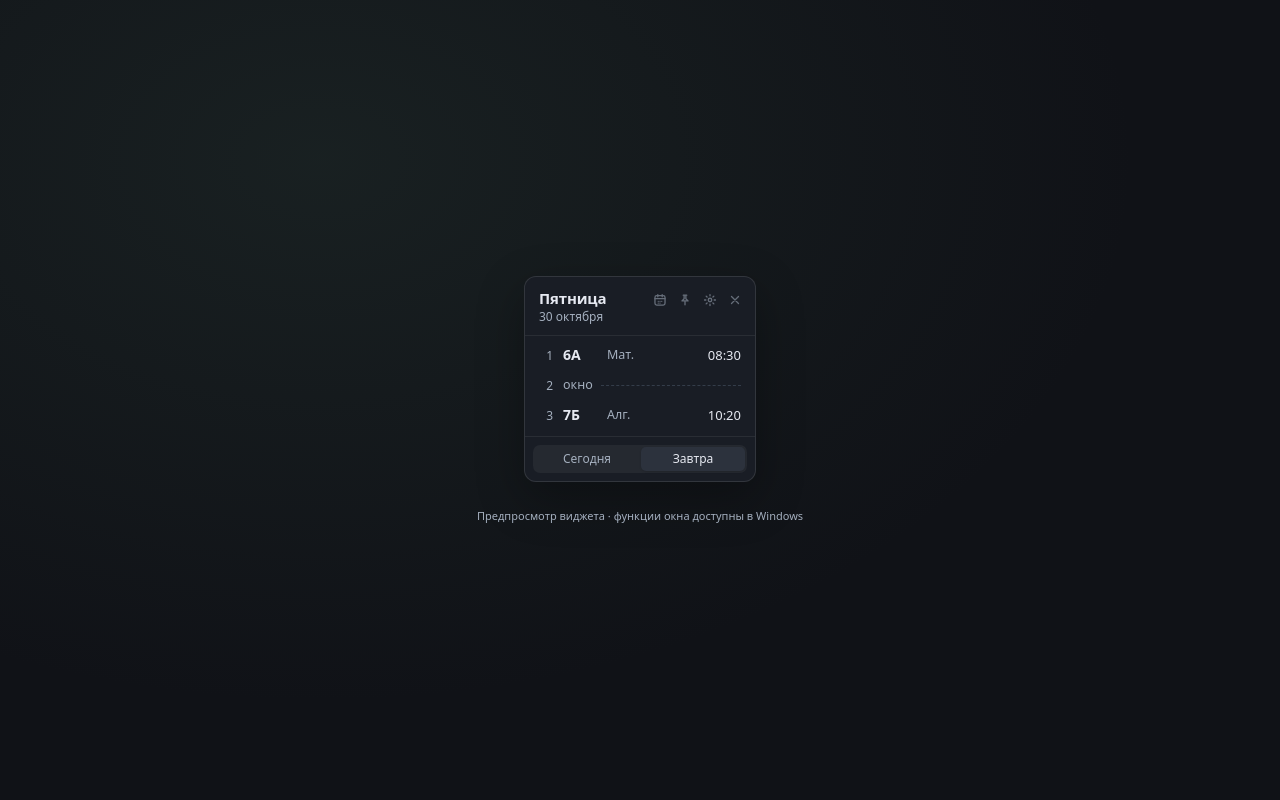
без новой версии сообщает, что установлена последняя
The image size is (1280, 800).
Click the button named "Открыть настройки".
click(710, 300)  # box [698,288,722,312]
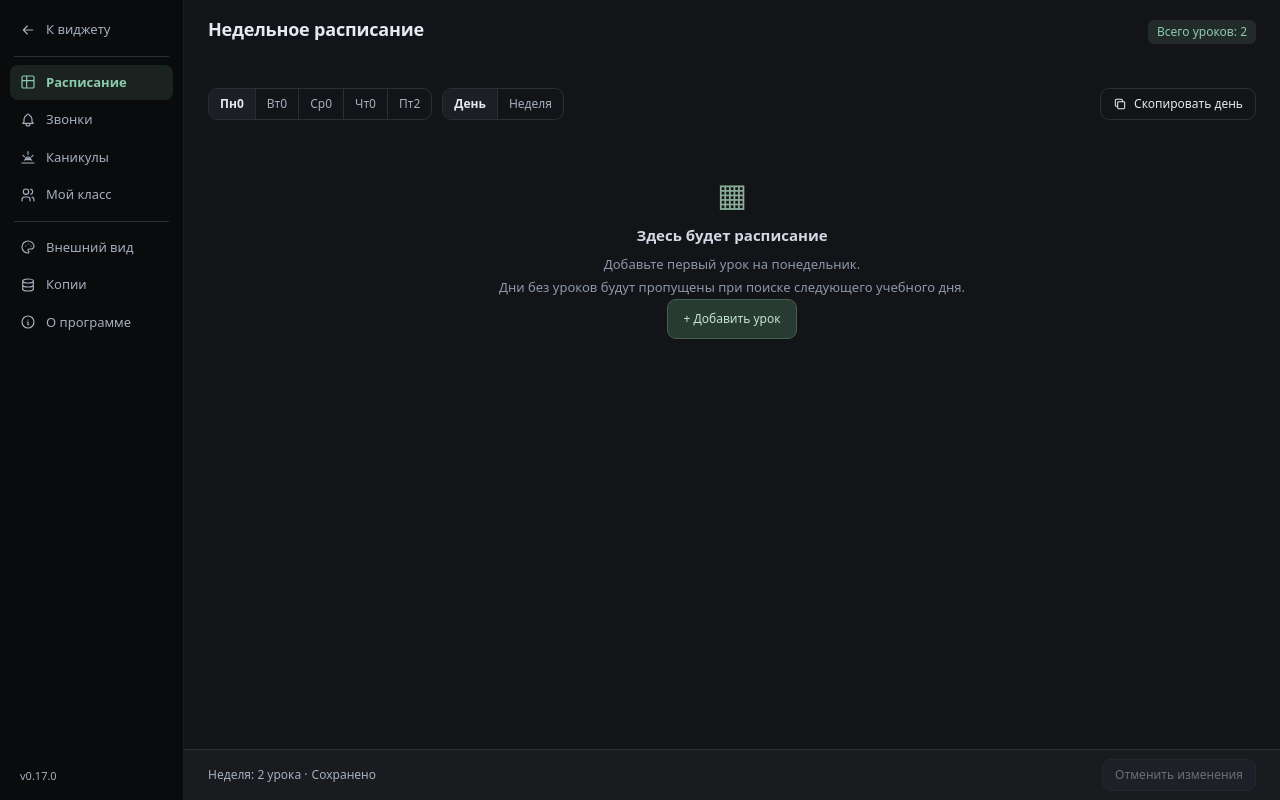
Click the button "О программе".
click(92, 322)  # box [10,304,173,340]
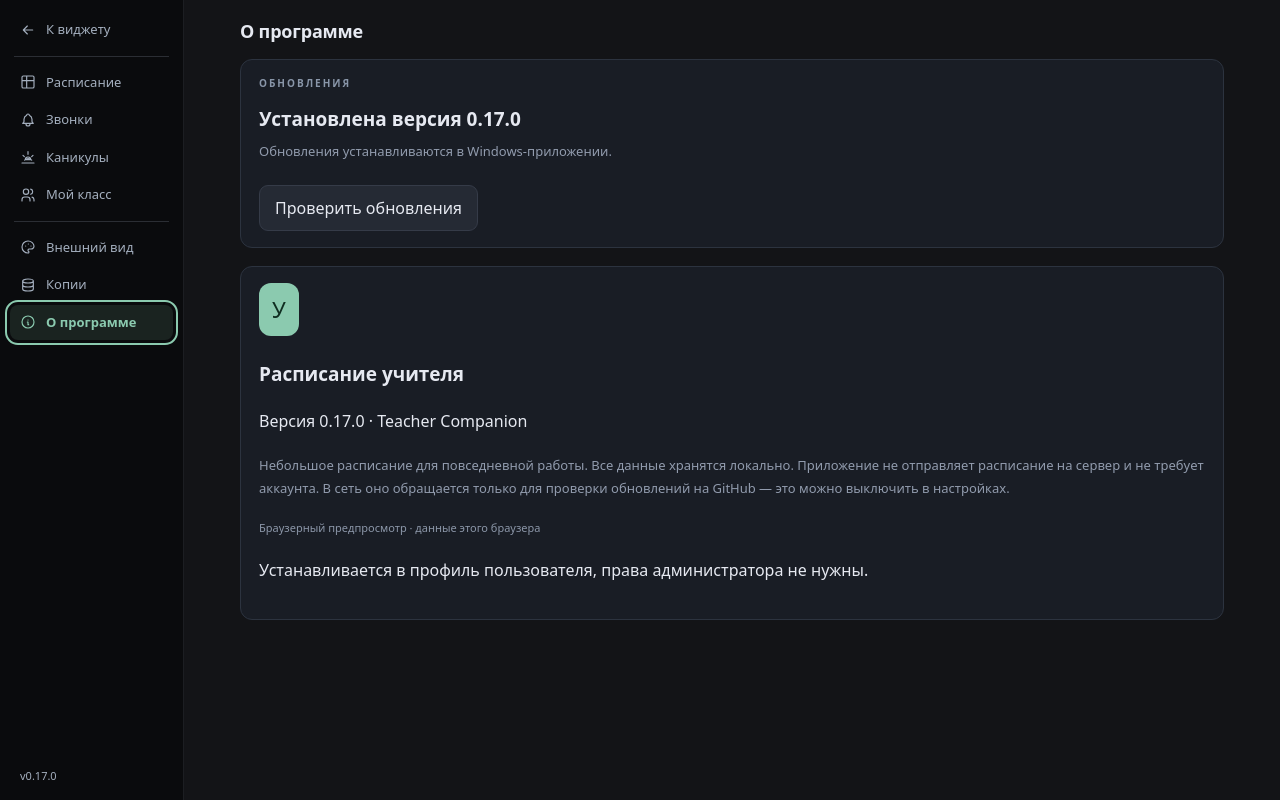
Click the button "Проверить обновления".
click(368, 208)  # box [259,185,478,231]
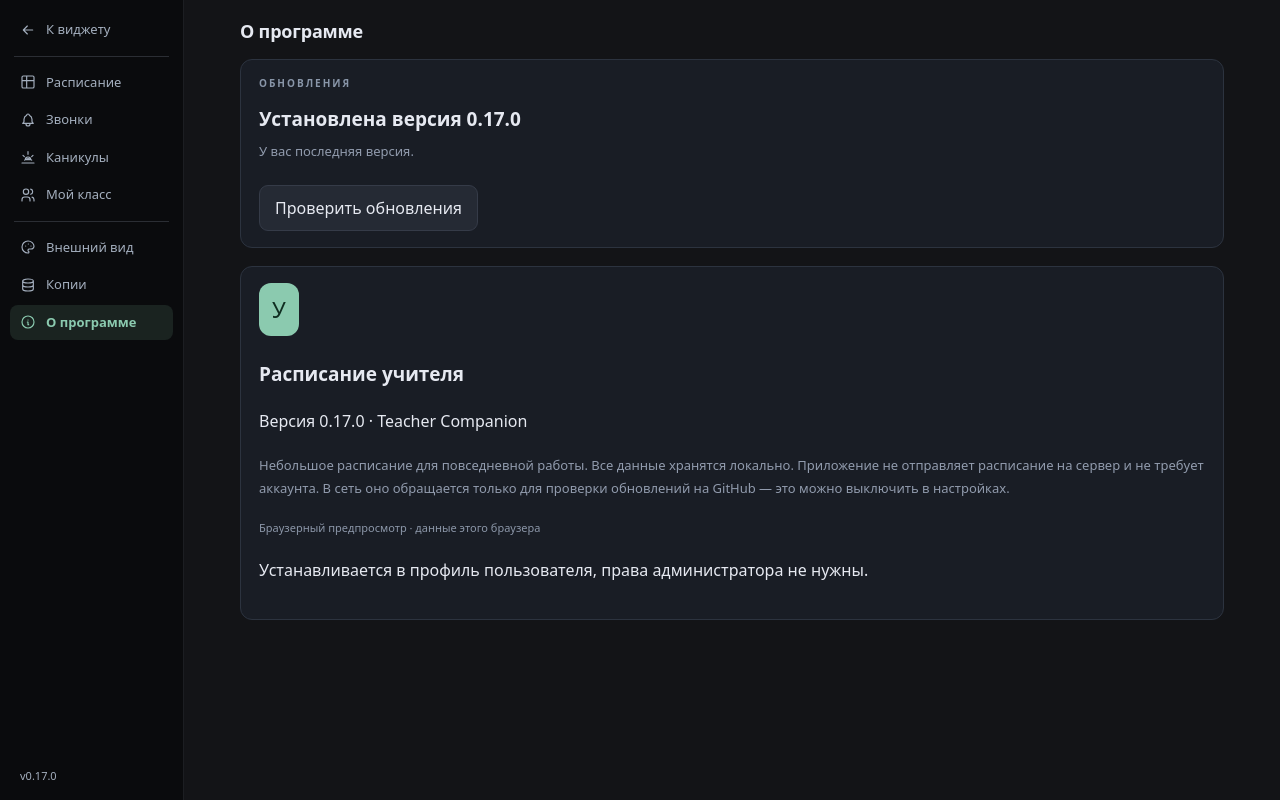
Check: the text "У вас последняя версия." is shown, box [259,142,414,160]
